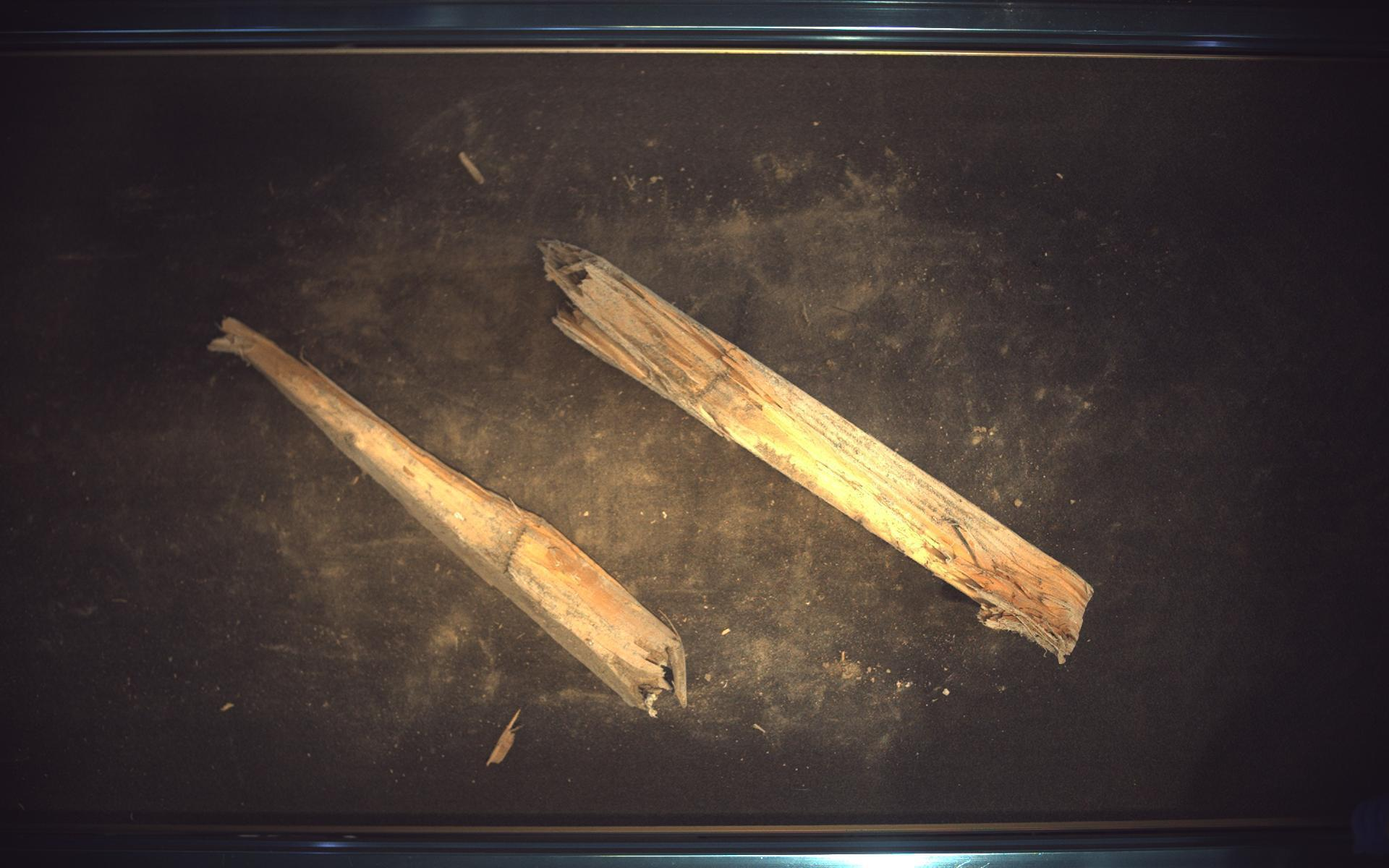wood: (540, 240, 1095, 663), (208, 318, 688, 717)
